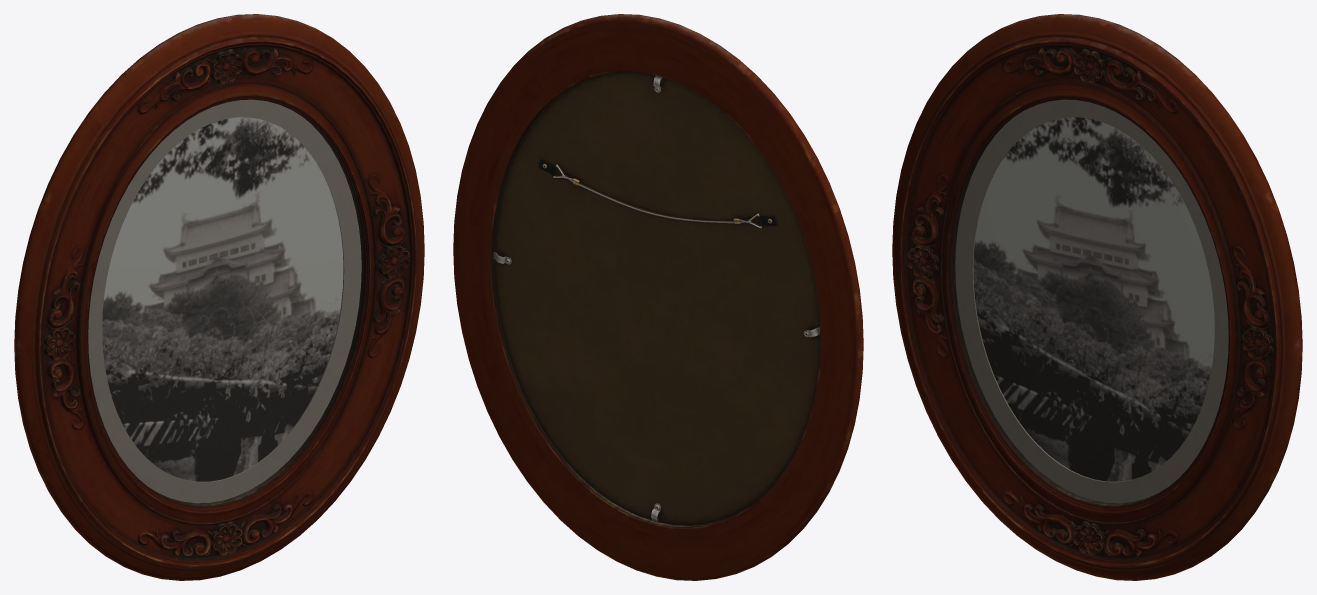
The model's file is hanging_picture_frame_03.glb.
The picture shows the model from 3 angles, left to right: view 1: azimuth 30°, elevation 25°; view 2: azimuth 150°, elevation 25°; view 3: azimuth 330°, elevation 25°; orthographic projection.
Visible parts, largest first — view 1: hanging_picture_frame_03, hanging_picture_frame_03_glass; view 2: hanging_picture_frame_03; view 3: hanging_picture_frame_03, hanging_picture_frame_03_glass.
Boxes of the visible parts, x1,y1,x2,y2 form: hanging_picture_frame_03: (14,14,424,580); hanging_picture_frame_03_glass: (88,100,363,504); hanging_picture_frame_03: (453,14,863,580); hanging_picture_frame_03: (892,14,1302,580); hanging_picture_frame_03_glass: (953,100,1228,504).
Size of the model in its own units: 0.385 by 0.5024 by 0.0318.
Materials: 3 (2 with a texture image).
